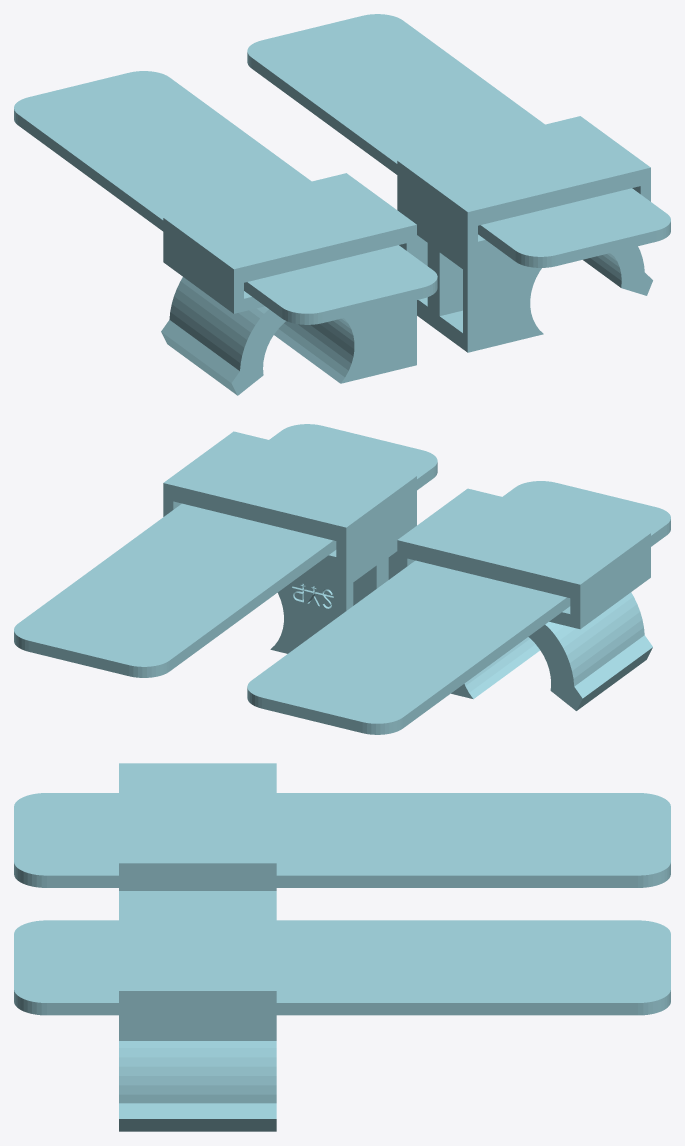
Rendered from corpsaimantglb.glb.
3 views of the same model, one above another, from view 1: azimuth 30°, elevation 25°; view 2: azimuth 150°, elevation 25°; view 3: azimuth 270°, elevation 25° (orthographic). The views are drawn at different scales.
Size of the model in its own units: 82.93 by 26.41 by 100.
